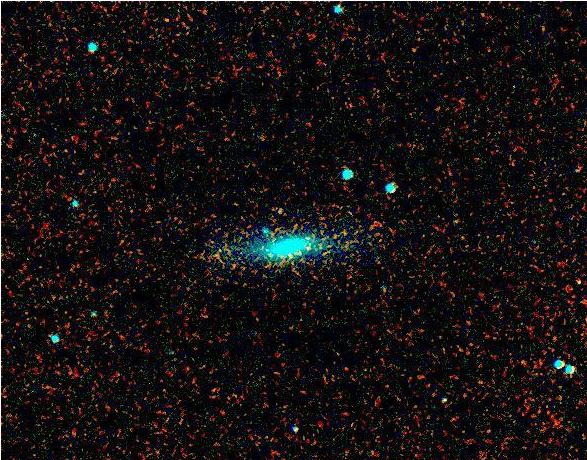star: (292, 232, 322, 262)
